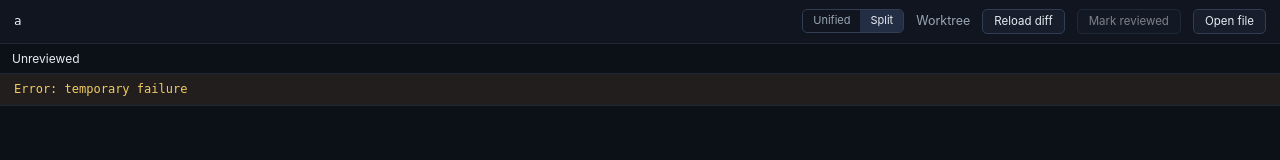
Test: lets repeated reloads recover a failed read without accepting older results
Click the button "Reload diff".
click(1024, 21)  # box [982,9,1065,34]
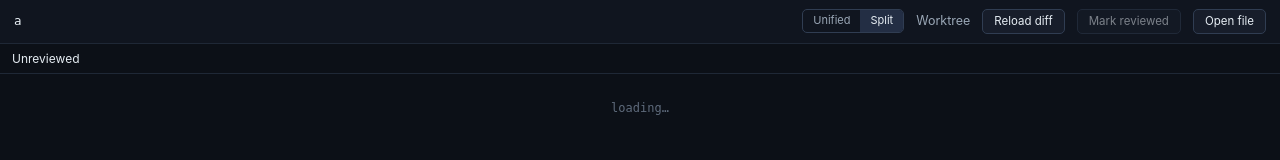
Click the button "Reload diff".
click(1024, 21)  # box [982,9,1065,34]
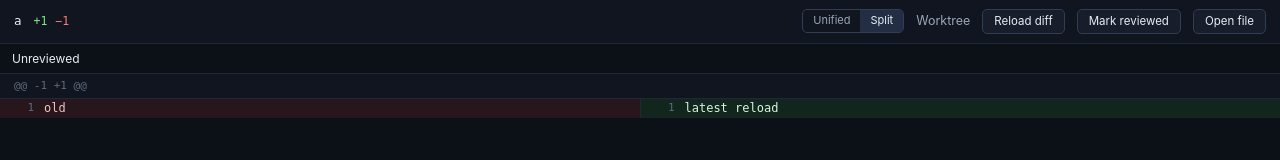
Expected: the text "latest reload" is shown, [684,101,778,115]
Expected: the button "Mark reviewed" is enabled, [1077,9,1181,34]
